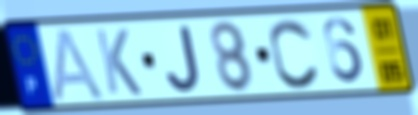6: (322, 16, 367, 86)
8: (208, 18, 255, 95)
A: (51, 25, 108, 102)
C: (267, 16, 323, 92)
J: (163, 23, 203, 96)
K: (92, 27, 145, 98)
